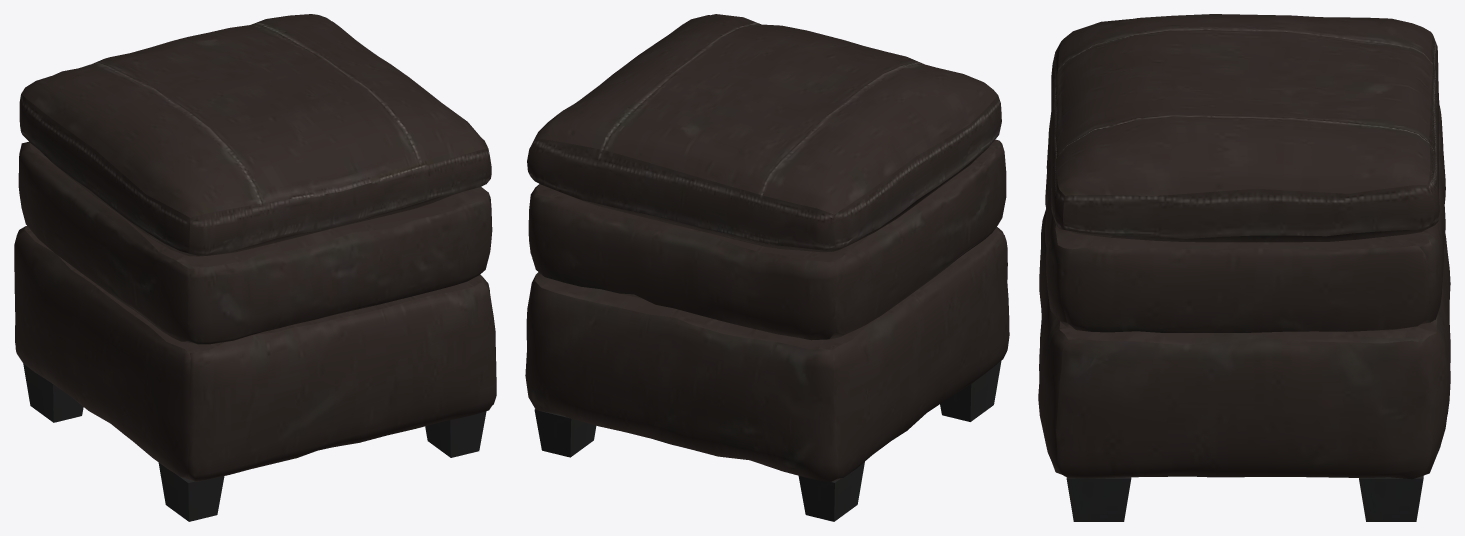
The model's file is ph-ottoman-01.glb.
3 views of the same model, side by side, from view 1: azimuth 30°, elevation 25°; view 2: azimuth 150°, elevation 25°; view 3: azimuth 270°, elevation 25° (orthographic). The views are drawn at different scales.
Visible parts, largest first — view 1: Ottoman_01; view 2: Ottoman_01; view 3: Ottoman_01.
Boxes of the visible parts, x1,y1,x2,y2 form: Ottoman_01: (14,14,496,521); Ottoman_01: (525,14,1009,521); Ottoman_01: (1038,14,1450,521).
Size of the model in its own units: 1 by 1 by 1.
1 material, 1 textured.
